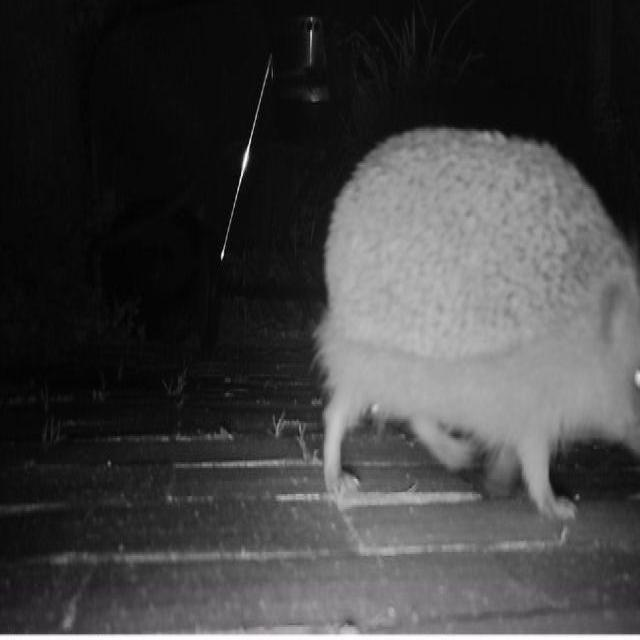Hedgehog: (307, 119, 640, 521)
